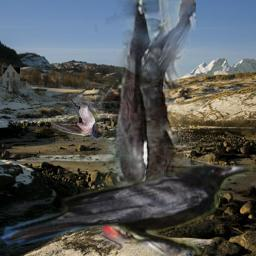Crow: (0, 163, 253, 255)
Swallow: (51, 92, 105, 140)
Woodpecker: (95, 0, 196, 256)
